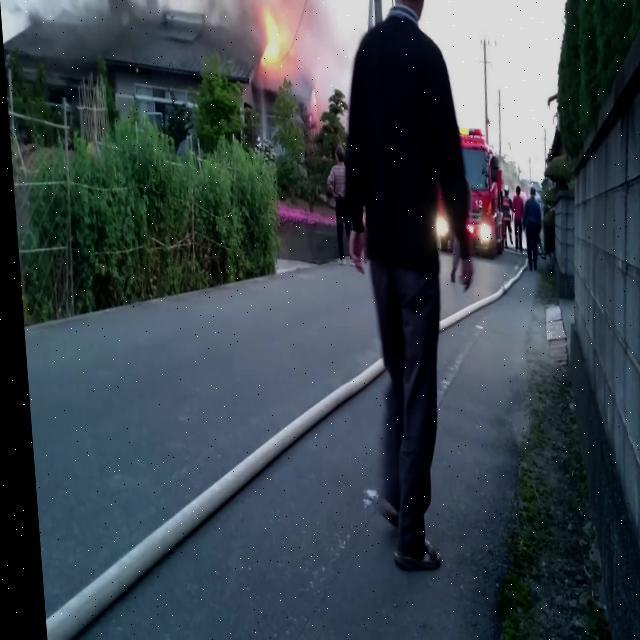Fire: (260, 10, 288, 62)
